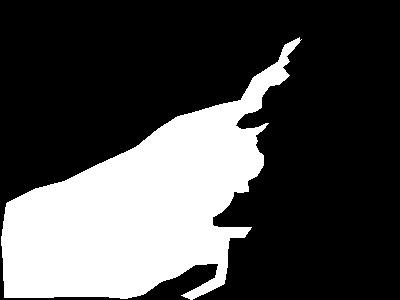Fire: (133, 36, 303, 231)
